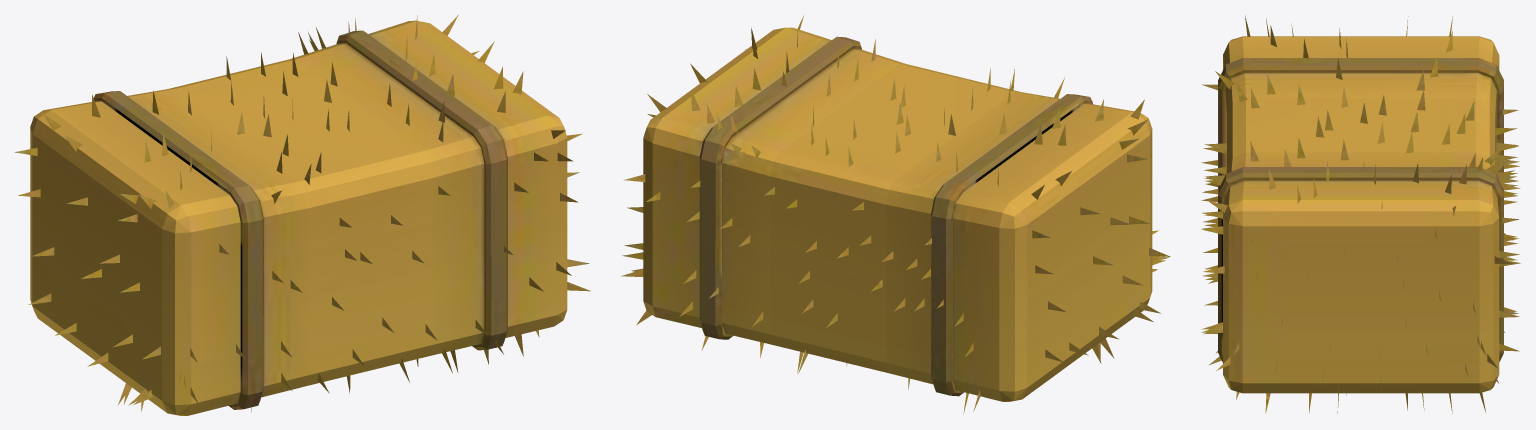
The model's file is hay_bale.glb.
3 views of the same model, side by side, from view 1: azimuth 30°, elevation 25°; view 2: azimuth 150°, elevation 25°; view 3: azimuth 270°, elevation 25° (orthographic). The views are drawn at different scales.
Visible parts, largest first — view 1: hay_bale; view 2: hay_bale; view 3: hay_bale.
Boxes of the visible parts, <box> form: hay_bale: <box>15,14,590,415</box>; hay_bale: <box>621,15,1170,413</box>; hay_bale: <box>1201,15,1520,413</box>.
Bounding box in the file's own units: 1.46 × 0.8 × 0.9927.
Materials: 1 (1 with a texture image).
